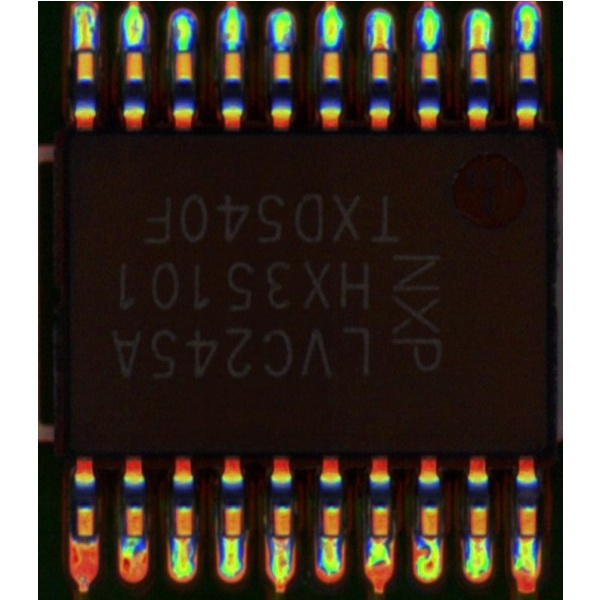Bad_podu: (471, 24, 487, 66), (79, 17, 92, 67), (375, 24, 388, 68), (276, 519, 287, 565), (178, 519, 188, 565), (473, 520, 485, 554), (324, 521, 335, 558)
